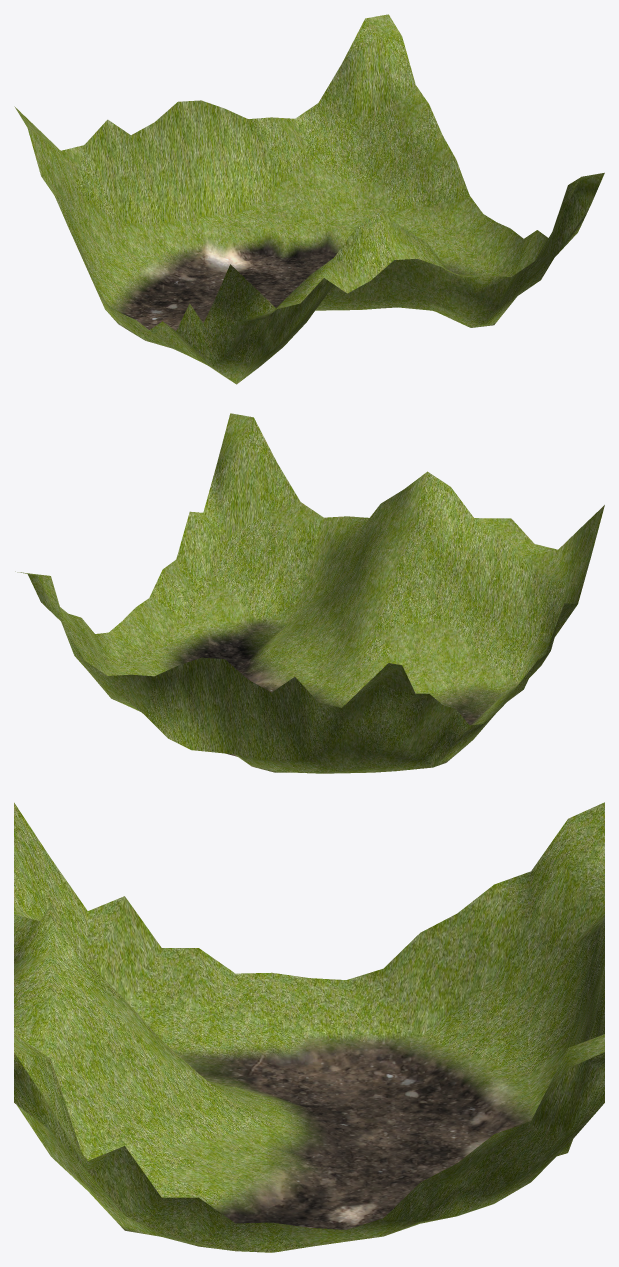
The model's file is outdoor.dae.
The picture shows the model from 3 angles, top to bottom: view 1: azimuth 30°, elevation 25°; view 2: azimuth 150°, elevation 25°; view 3: azimuth 270°, elevation 25°; orthographic projection. The views are drawn at different scales.
Parts seen in each view (by area): view 1: Plane; view 2: Plane; view 3: Plane.
Boxes of the visible parts, <box> form: Plane: <box>14,14,604,384</box>; Plane: <box>15,413,604,773</box>; Plane: <box>14,802,604,1252</box>.
Size of the model in its own units: 30 by 30 by 13.29.
1 material, 1 textured.
